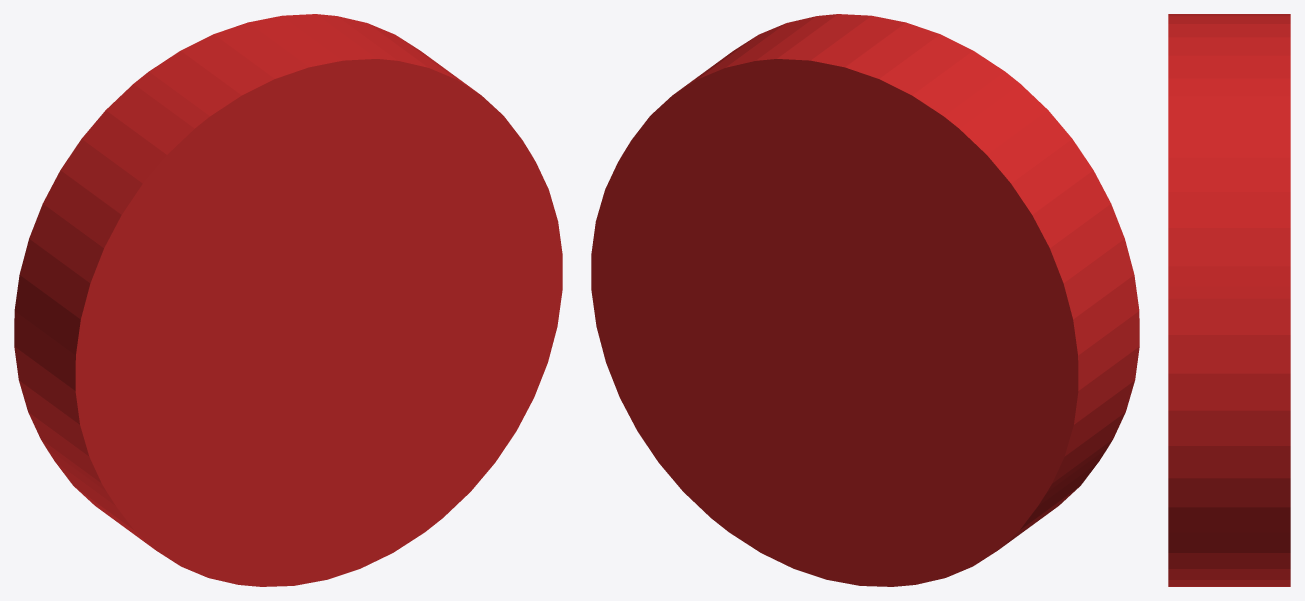
Rendered from converted_link2_15_d12626ff.obj.
3 renders of one model, left to right at view 1: azimuth 30°, elevation 25°; view 2: azimuth 150°, elevation 25°; view 3: azimuth 270°, elevation 25°, orthographic.
Size of the model in its own units: 0.000459 by 0.000465 by 0.0001.
